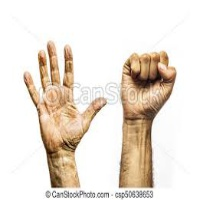ring: (34, 45, 51, 89), (138, 53, 148, 84)
